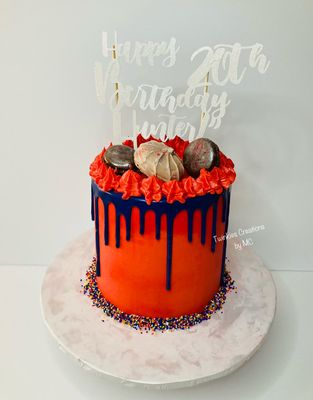sushi: (85, 132, 237, 330)
